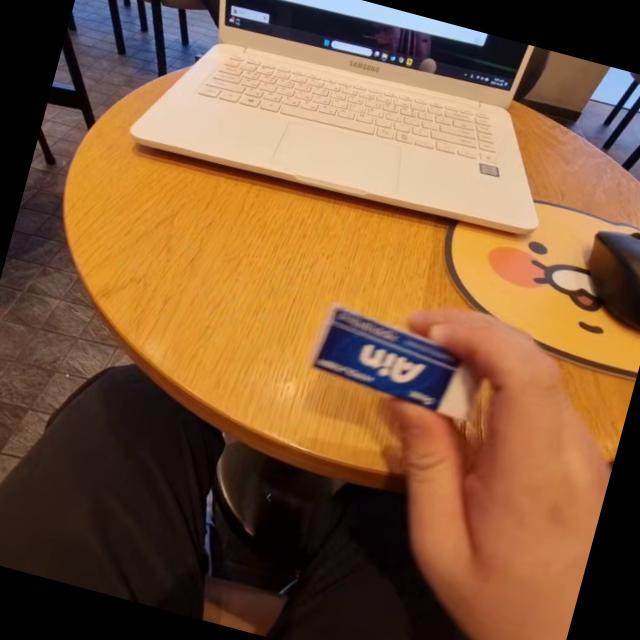eraser: (288, 284, 497, 428)
grab_eraser: (254, 269, 640, 640)
hand: (382, 288, 640, 628)
mouse: (558, 205, 640, 359)
